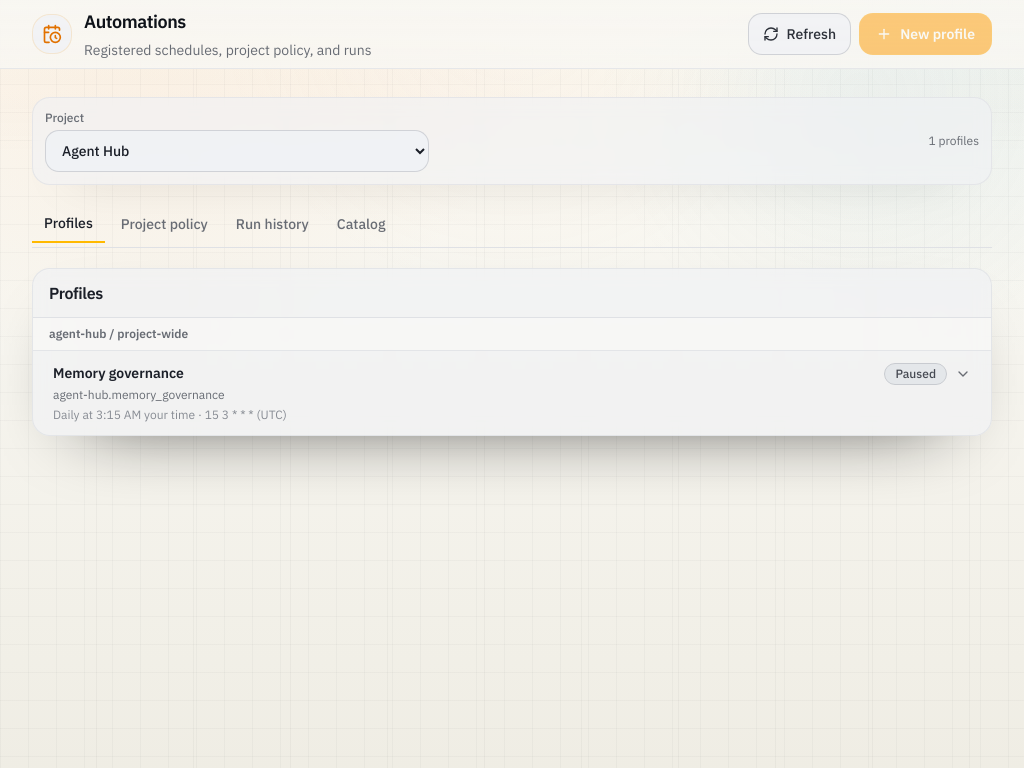
Test: Automations project policy › shows no next run for a paused profile instead of its stale date
Click the button "Memory governance" at (118, 373), box [33,351,991,435]
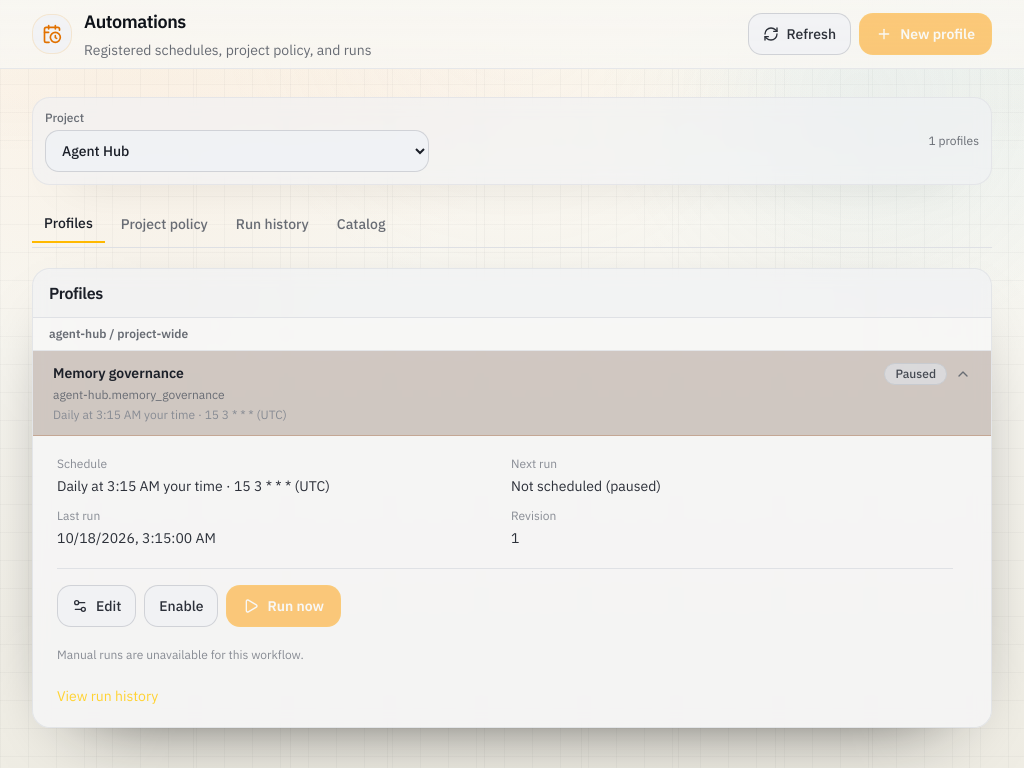
Expected: the text "Not scheduled (paused)" is shown, [511,477,661,495]
